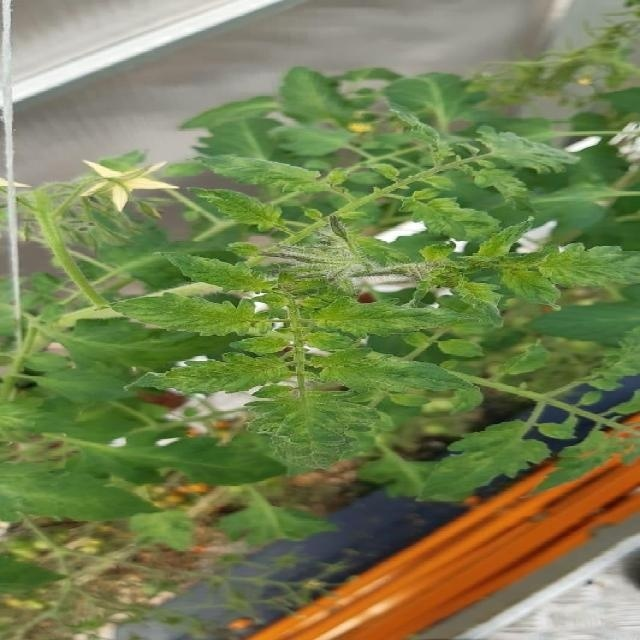T_L_R: (250, 392, 380, 470), (310, 350, 477, 393), (112, 294, 272, 336), (134, 354, 293, 394), (312, 299, 472, 337), (190, 189, 291, 233), (163, 254, 274, 292), (453, 281, 502, 326)
